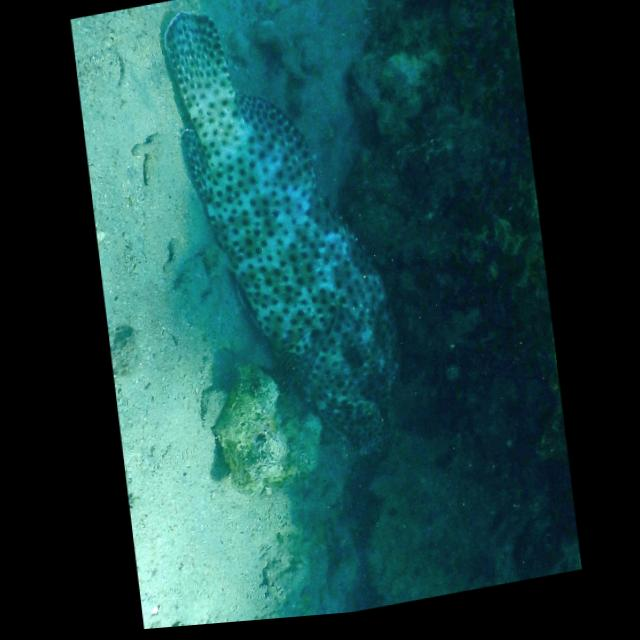Groupers: (155, 0, 410, 484)
